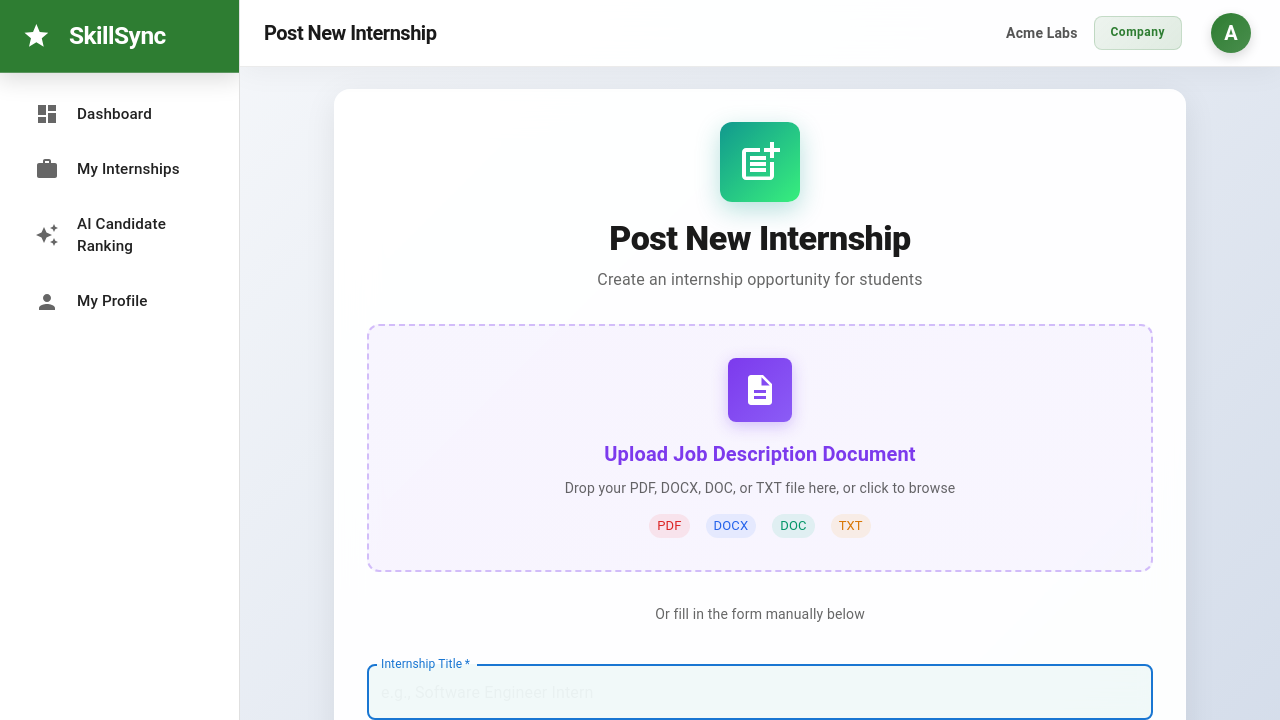
it: shows the server error when posting fails
Type "Backend Intern" into the field labelled "Internship Title *" at (760, 692), box [367,664,1153,719]
(page scrolled)
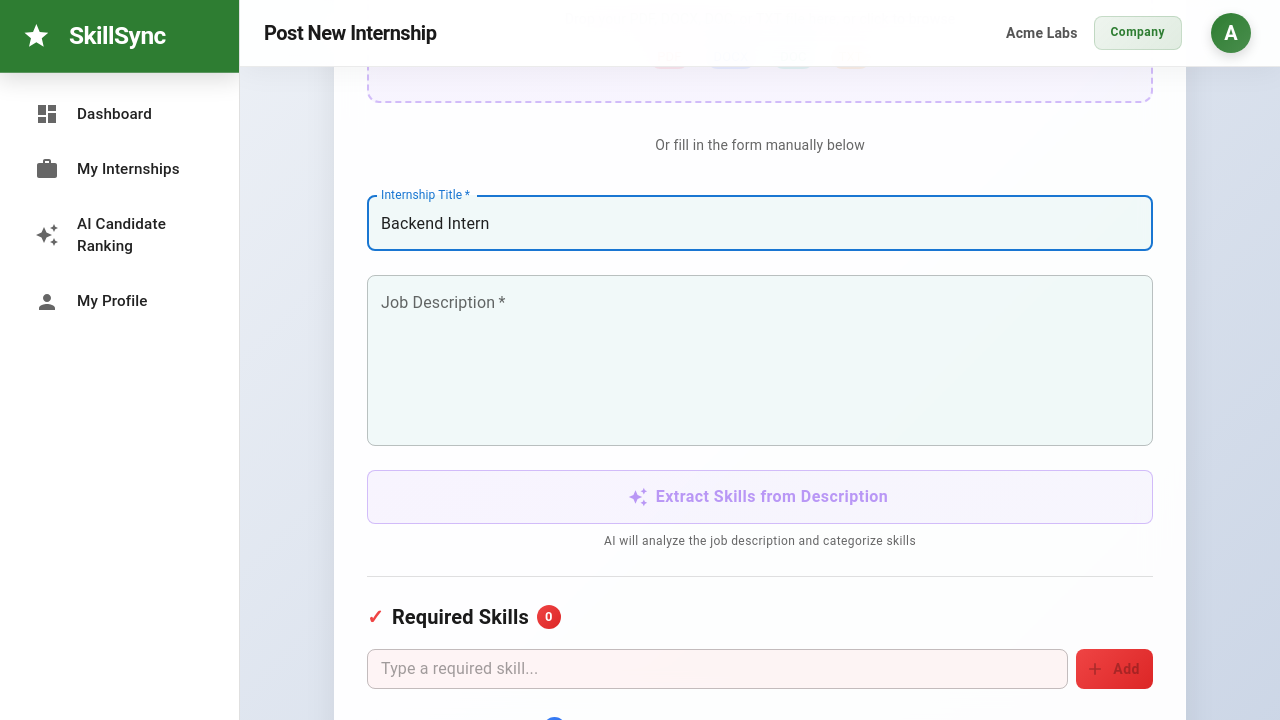
Type "Build FastAPI services in Python, review pull requests and ship features every week." into the text box labelled "Job Description *" at (760, 360), box [381,292,1139,430]
(page scrolled)
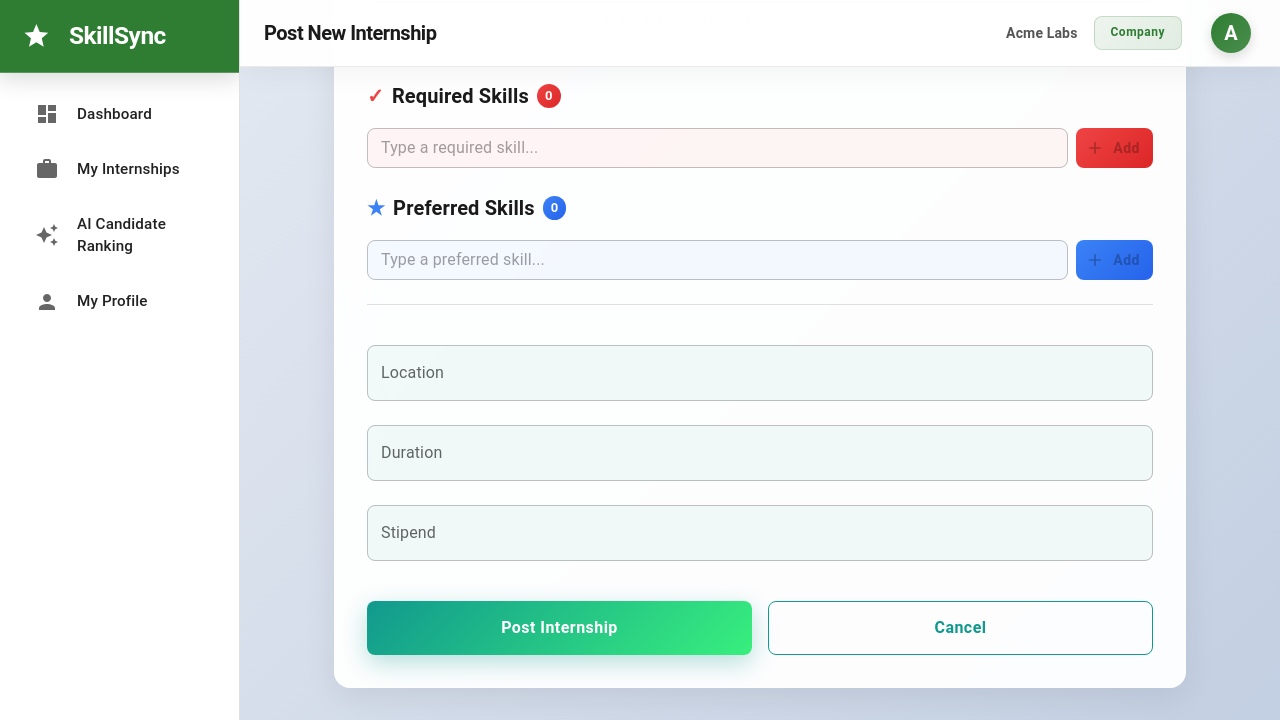
Click the button "Post Internship" at (560, 628), box [367,601,752,655]
(page scrolled)
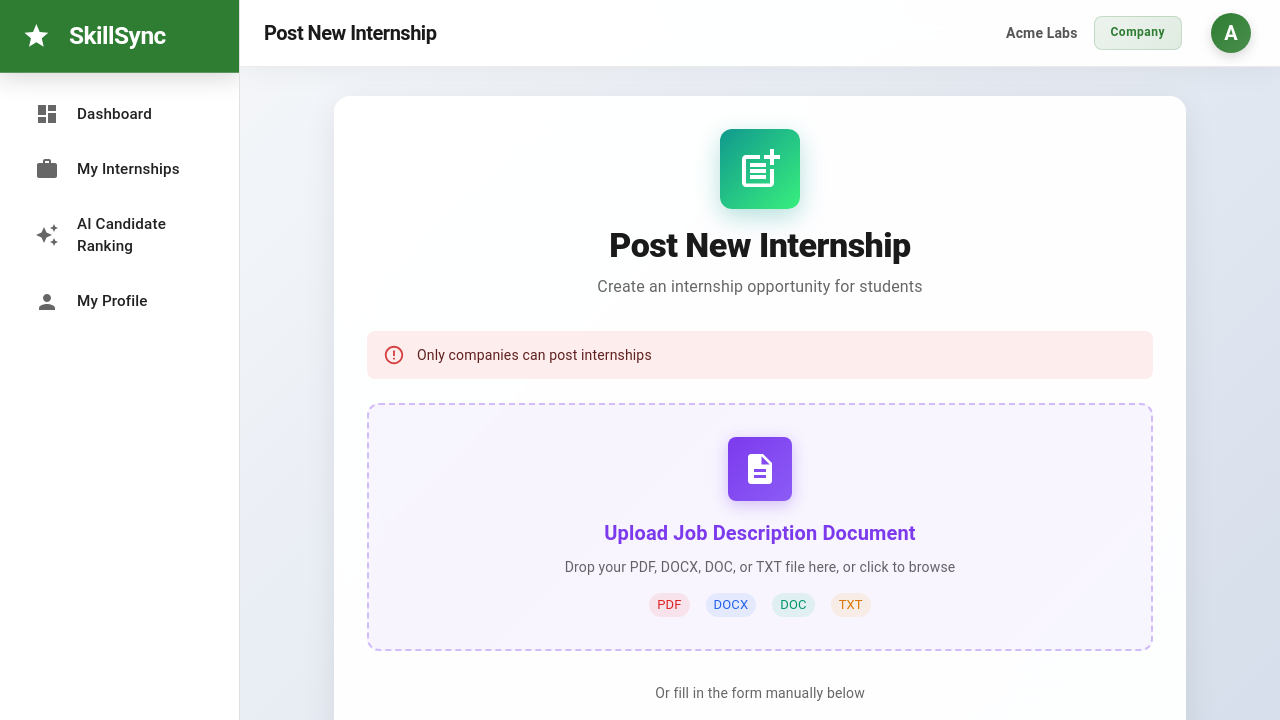
expect the text "Only companies can post internships" is shown: met, box [417,347,652,363]
